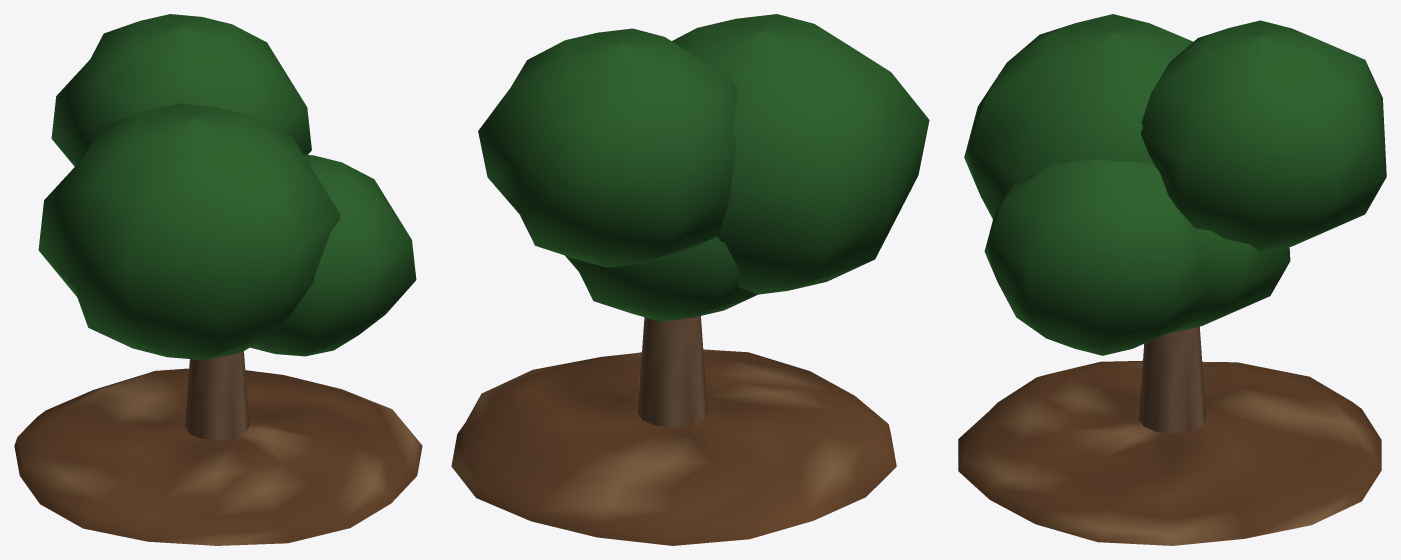
File: plant-mango-1.gltf
The picture shows the model from 3 angles, left to right: view 1: azimuth 30°, elevation 25°; view 2: azimuth 150°, elevation 25°; view 3: azimuth 270°, elevation 25°; orthographic projection. The views are drawn at different scales.
Size of the model in its own units: 1.28 by 1.39 by 1.28.
